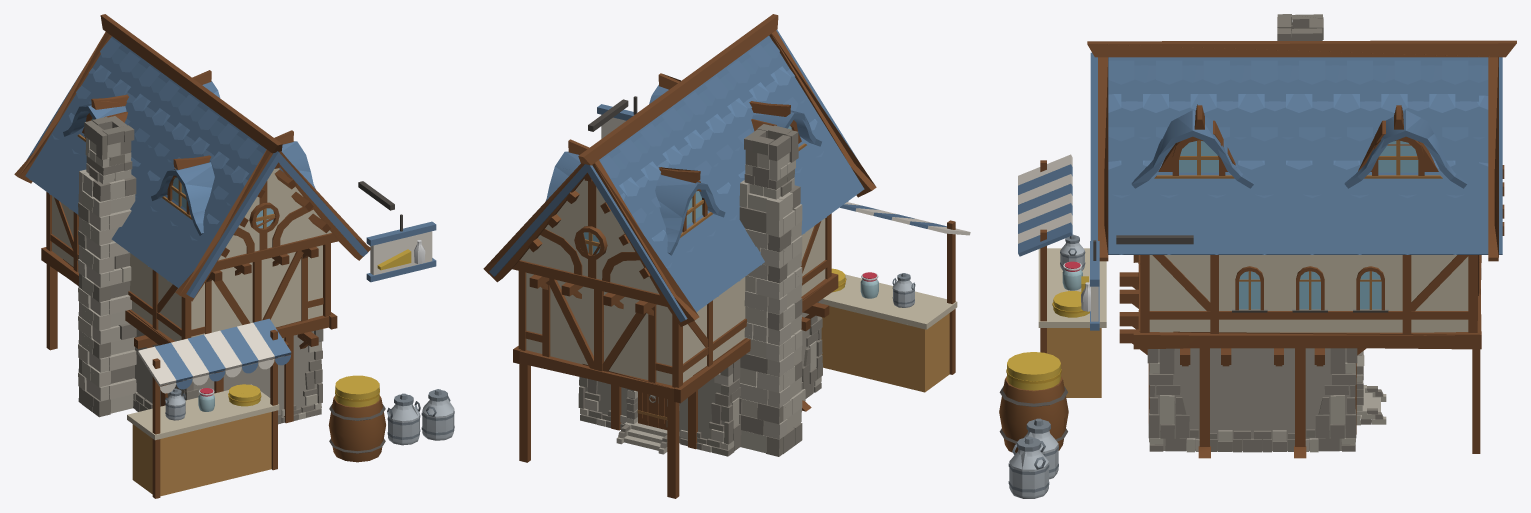
Rendered from dairy.glb.
The picture shows the model from 3 angles, left to right: view 1: azimuth 30°, elevation 25°; view 2: azimuth 150°, elevation 25°; view 3: azimuth 270°, elevation 25°; orthographic projection. The views are drawn at different scales.
Visible parts, largest first — view 1: building-dairy, building-dairy-far; view 2: building-dairy, building-dairy-far; view 3: building-dairy, building-dairy-far.
Boxes of the visible parts, box(x1,y1,x2,y2) form: building-dairy: box(14, 14, 454, 498); building-dairy-far: box(19, 31, 453, 496); building-dairy: box(483, 14, 970, 498); building-dairy-far: box(484, 33, 949, 453); building-dairy: box(999, 14, 1516, 498); building-dairy-far: box(1003, 28, 1503, 489).
Size of the model in its own units: 4.43 by 4.22 by 5.35.
